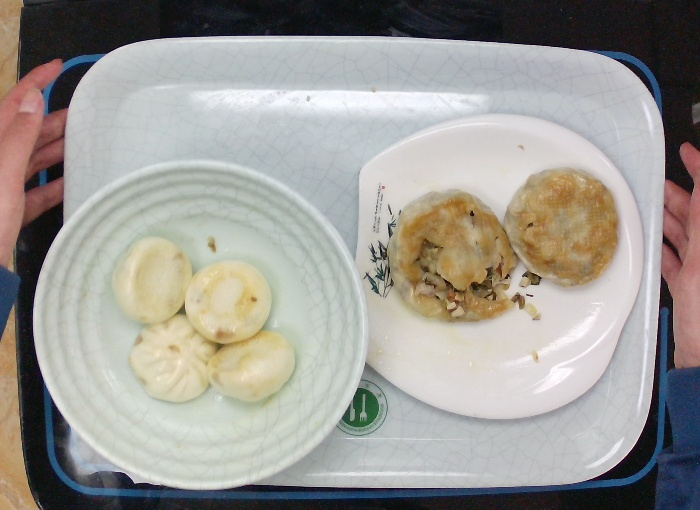JYsf-Da_Tang_Wan: (31, 159, 367, 490)
JYsf-Mian_Pan: (349, 115, 644, 419)
